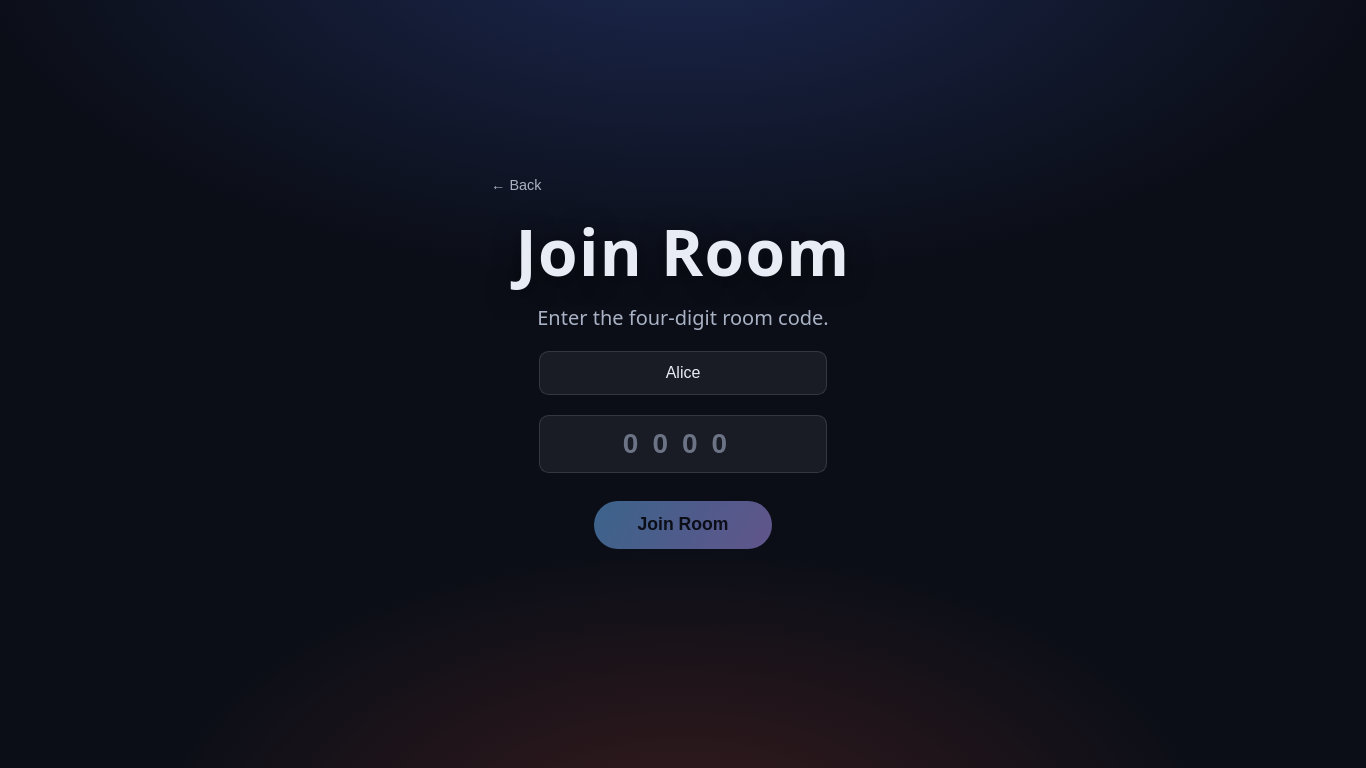
Test: JoinScreen › strips non-digits and limits the code to four digits
Type "12ab34567" into the field named "Room code".
click(683, 444); type("12ab34567")  # box [539,415,827,473]
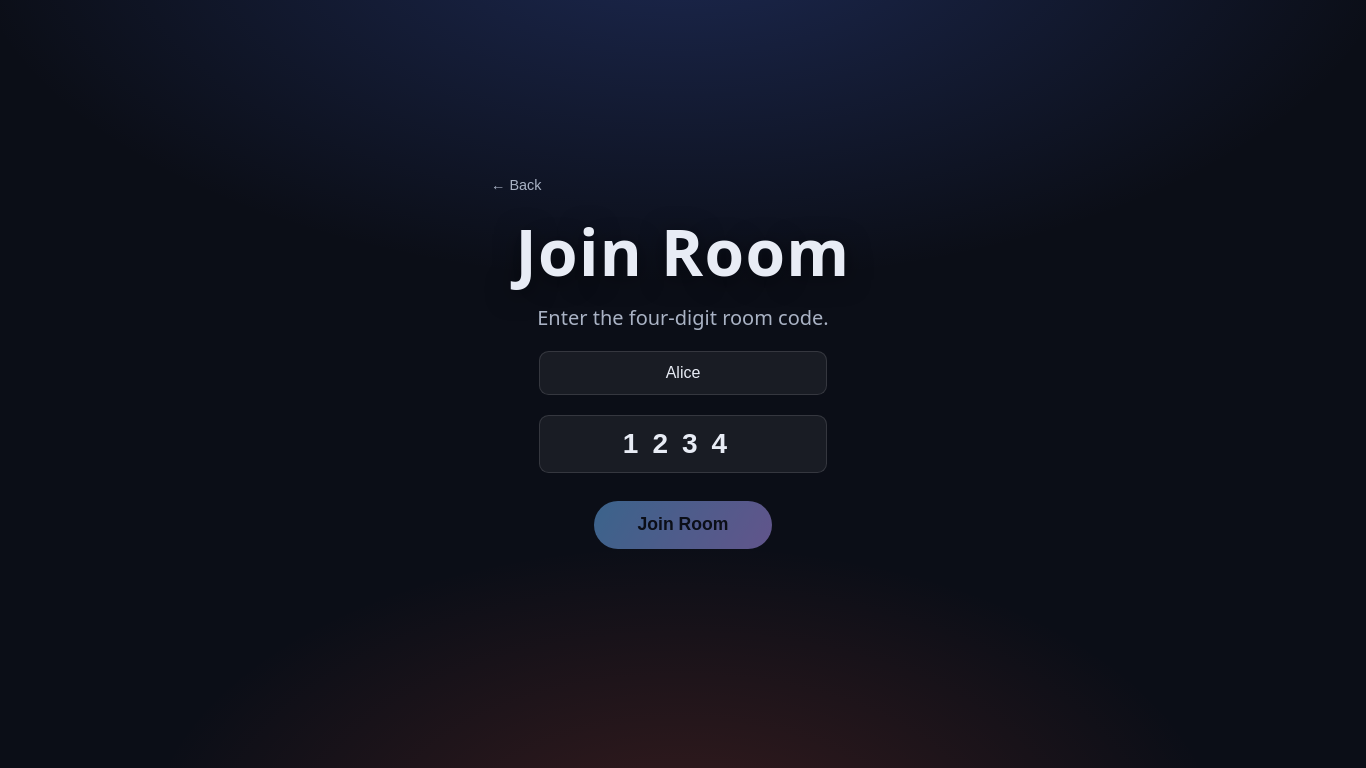
Expected: the field named "Room code" holds "1234", [539,415,827,473]
